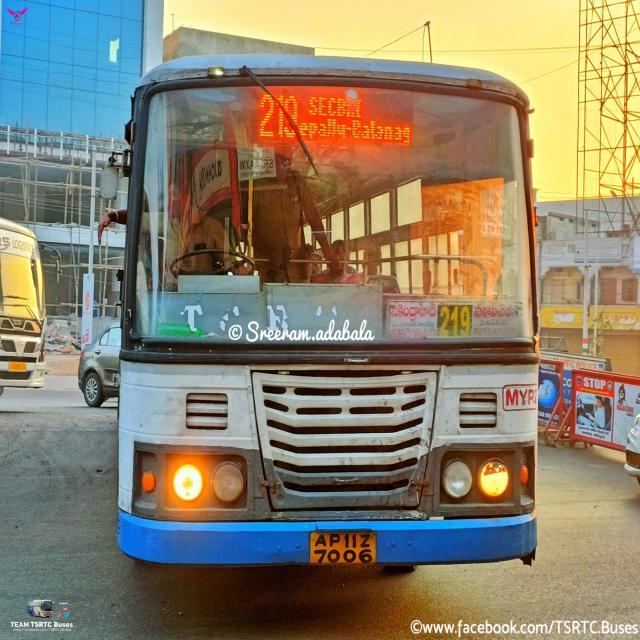Bus: (115, 49, 547, 584)
